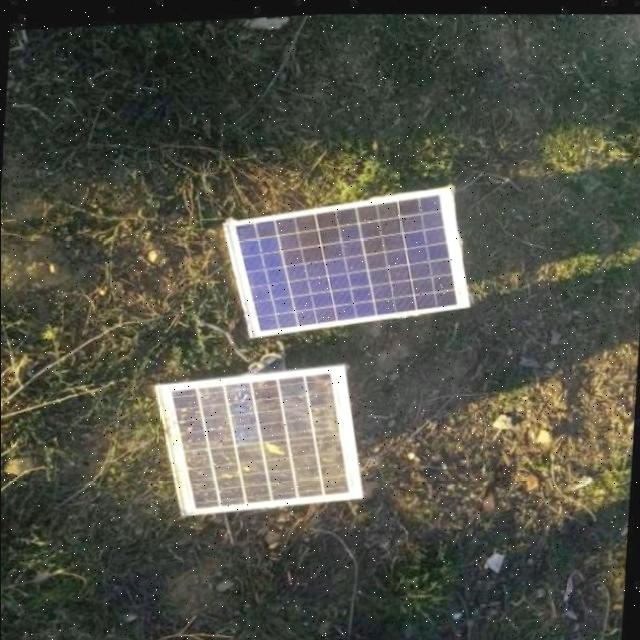Normal Solar Panel: (219, 175, 475, 346)
